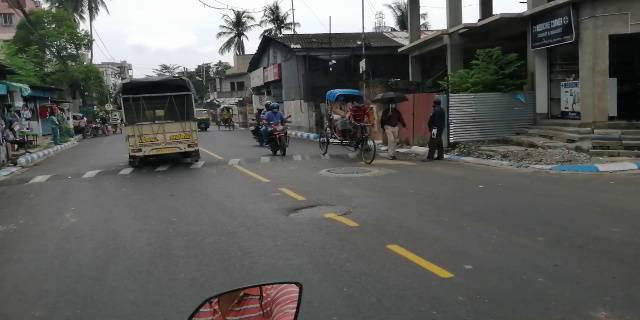Autorickshaw: (195, 106, 214, 133)
Minitruck: (112, 75, 202, 169)
Motorbike: (257, 104, 297, 158)
Rickshaw: (317, 83, 378, 167), (214, 102, 237, 134)
